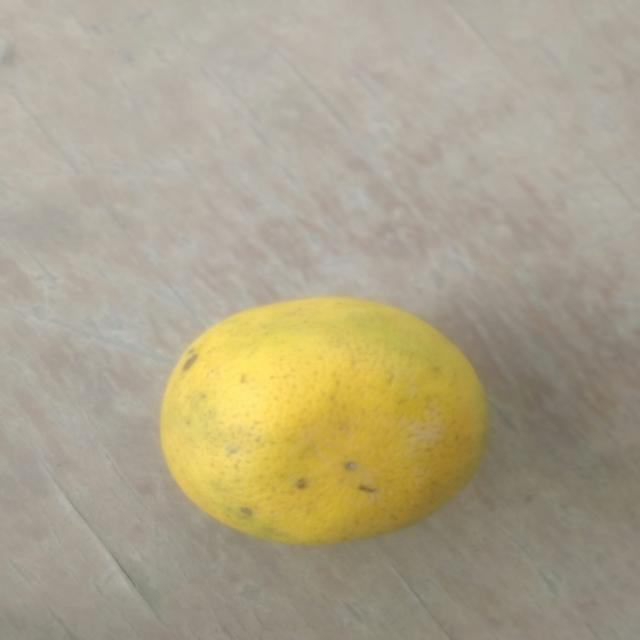Ripe orange: (138, 286, 500, 559)
